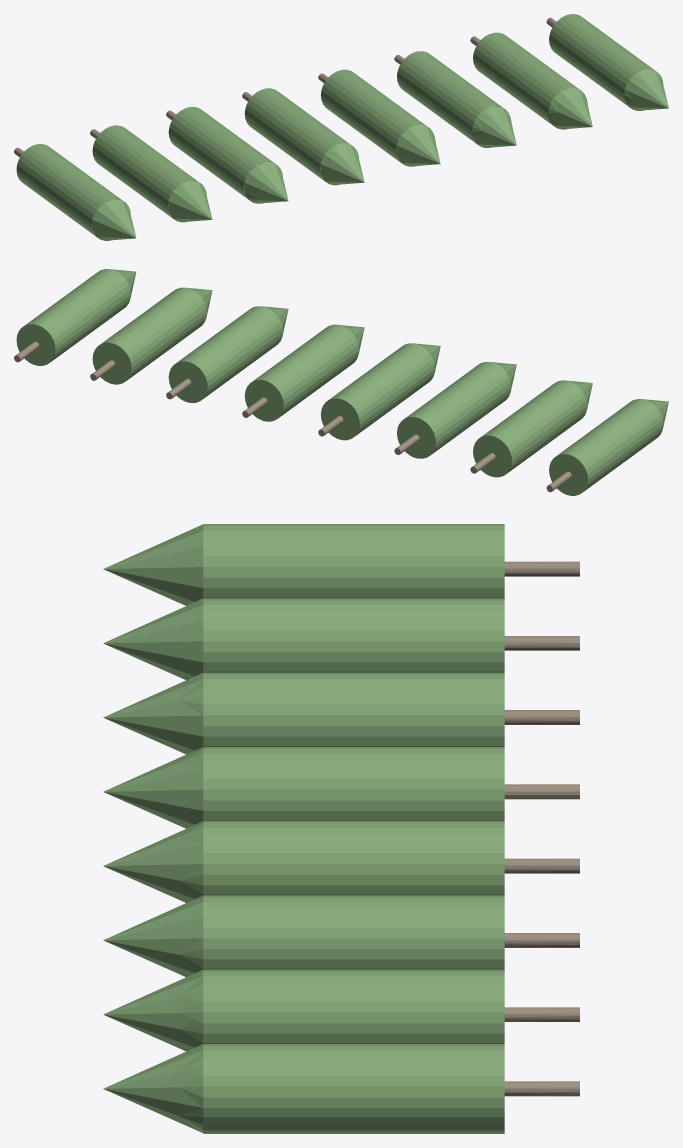
File: r-146-twente-poplar-row.glb
3 views of the same model, one above another, from view 1: azimuth 30°, elevation 25°; view 2: azimuth 150°, elevation 25°; view 3: azimuth 270°, elevation 25° (orthographic). The views are drawn at different scales.
Visible parts, largest first — view 1: foliage, trunks; view 2: foliage, trunks; view 3: foliage, trunks.
Part boxes in pixels (box(x1,y1,x2,y2)): foliage: box(16, 14, 668, 240); trunks: box(14, 17, 556, 157); foliage: box(16, 269, 668, 495); trunks: box(14, 341, 571, 492); foliage: box(103, 524, 504, 1133); trunks: box(504, 561, 579, 1096).
Size of the model in its own units: 52600 by 3577 by 19003.
